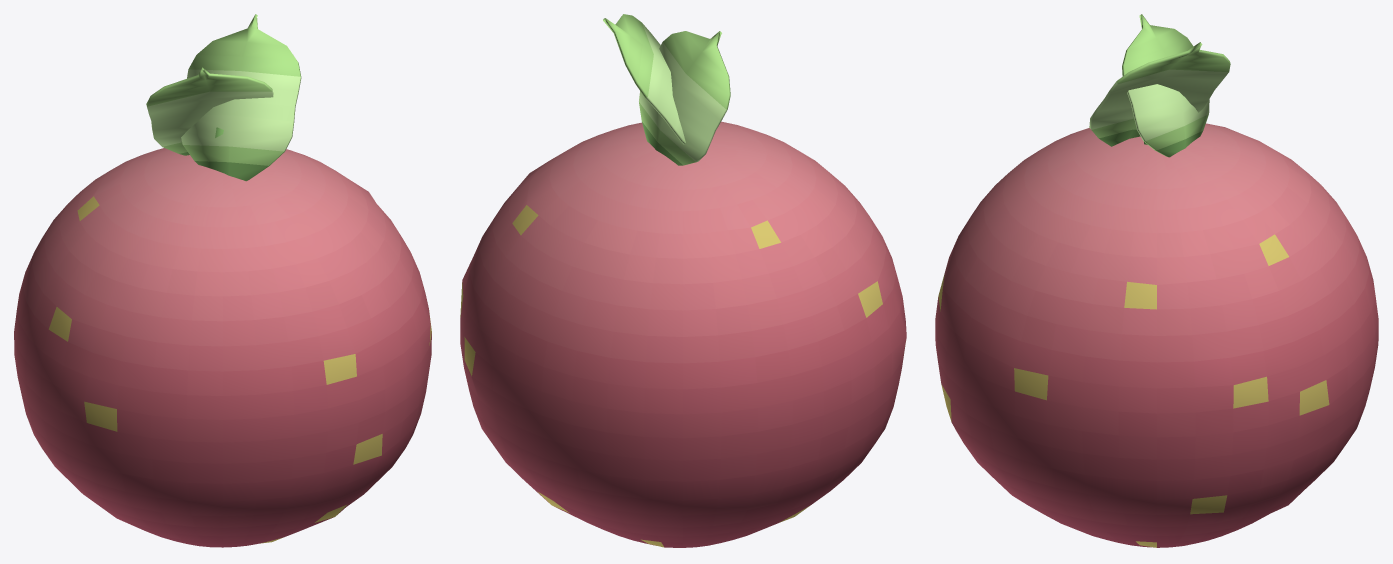
File: Berries.glb
The picture shows the model from 3 angles, left to right: view 1: azimuth 30°, elevation 25°; view 2: azimuth 150°, elevation 25°; view 3: azimuth 270°, elevation 25°; orthographic projection. The views are drawn at different scales.
Parts seen in each view (by area): view 1: Berry; view 2: Berry; view 3: Berry.
Part boxes in pixels (x1,y1,x2,y2): Berry: (14,14,431,547); Berry: (460,14,906,547); Berry: (935,14,1378,547).
Bounding box in the file's own units: 1.26 × 1.67 × 1.26.
